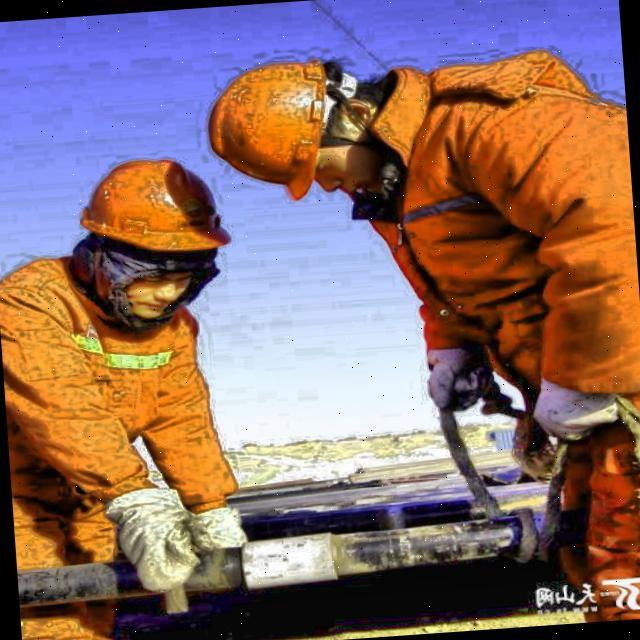helmet: (58, 139, 249, 327), (188, 44, 378, 204)
